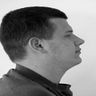ear: (26, 33, 51, 58)
